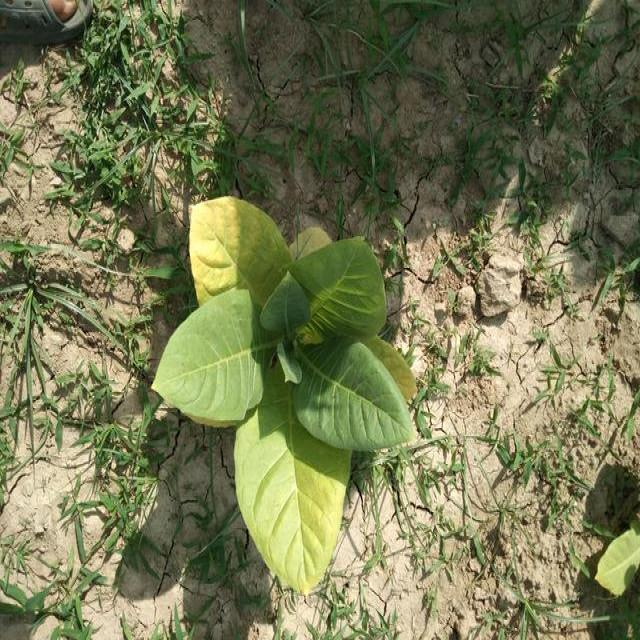crop: (159, 188, 421, 596)
